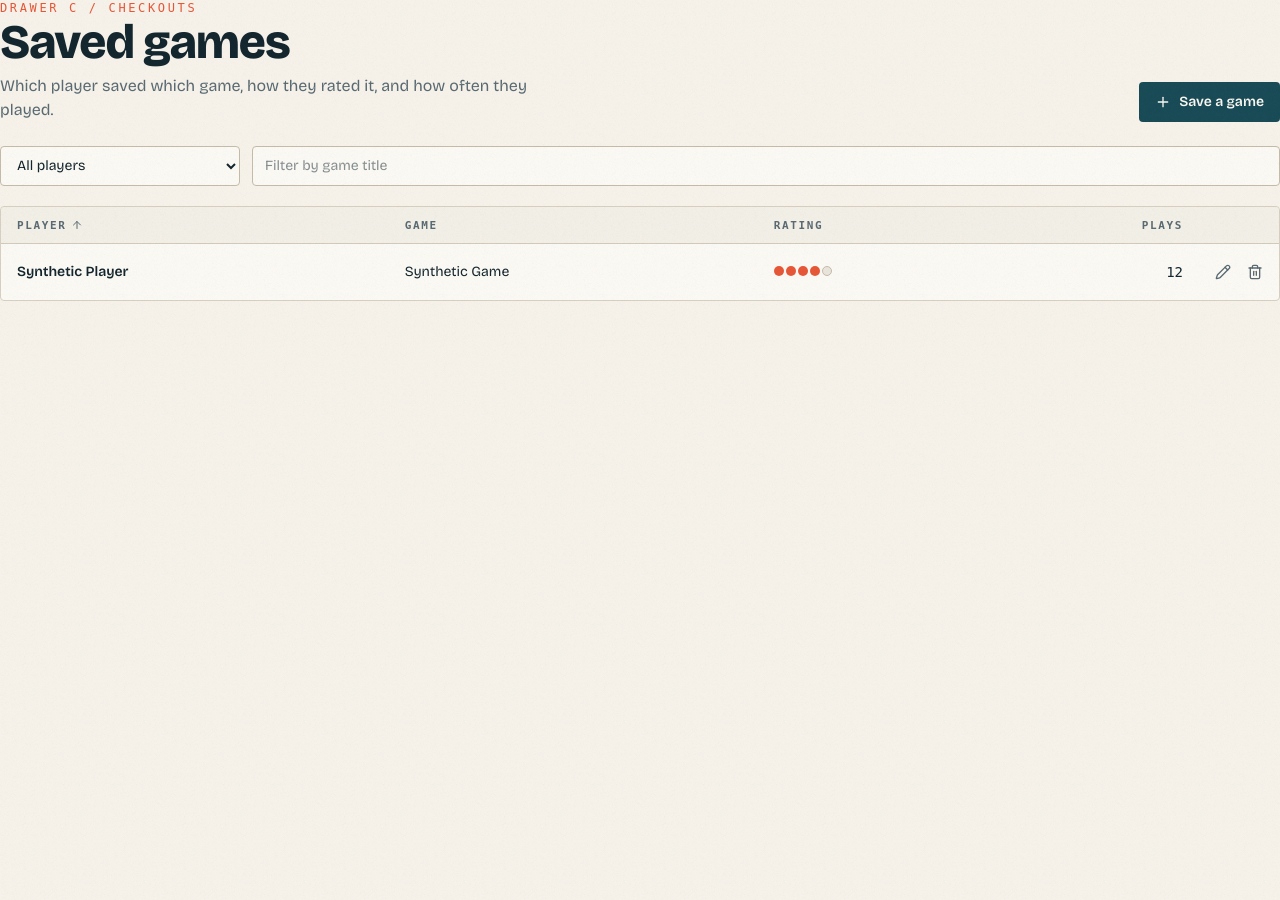
rejects missing player/game choices without mutating or leaking form values
This screenshot has width=1280, height=900.
Click the button with test id "button-add-saved": coordinates (1210, 102) [1139,82,1279,122]
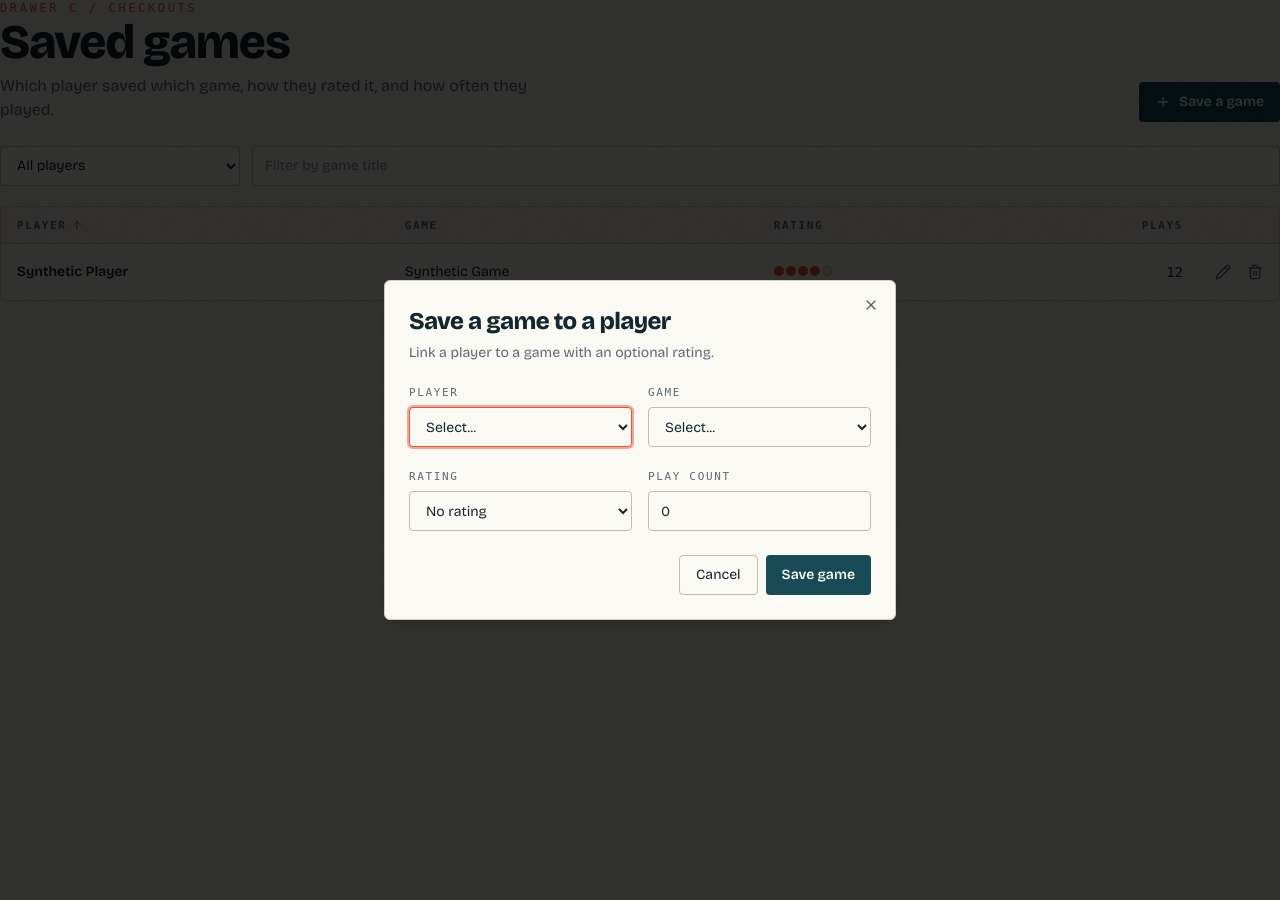
Click the button with test id "button-save-saved": coordinates (818, 575) [766,555,871,595]
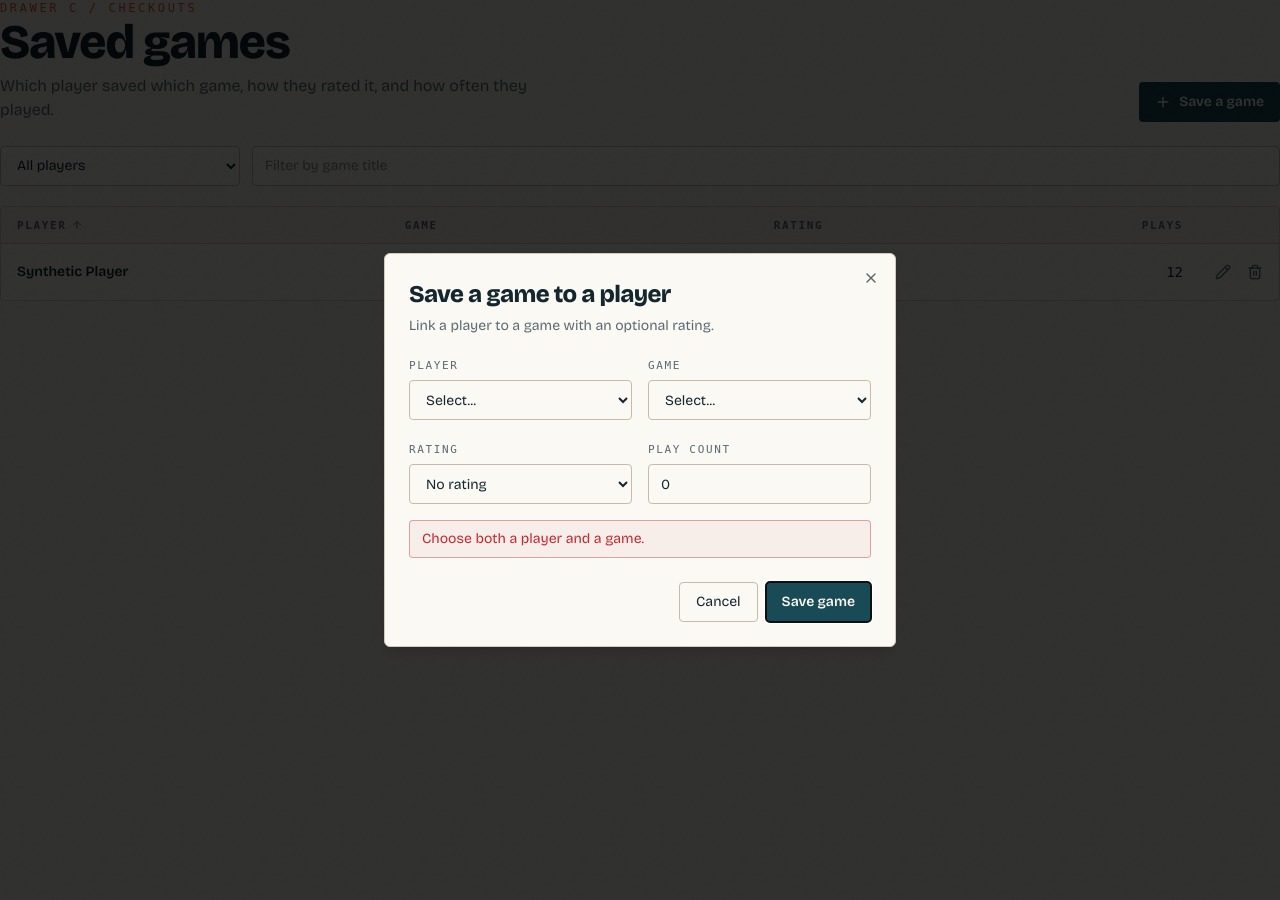
Expected: the text "Choose both a player and a game." is shown, [409,520,871,558]
